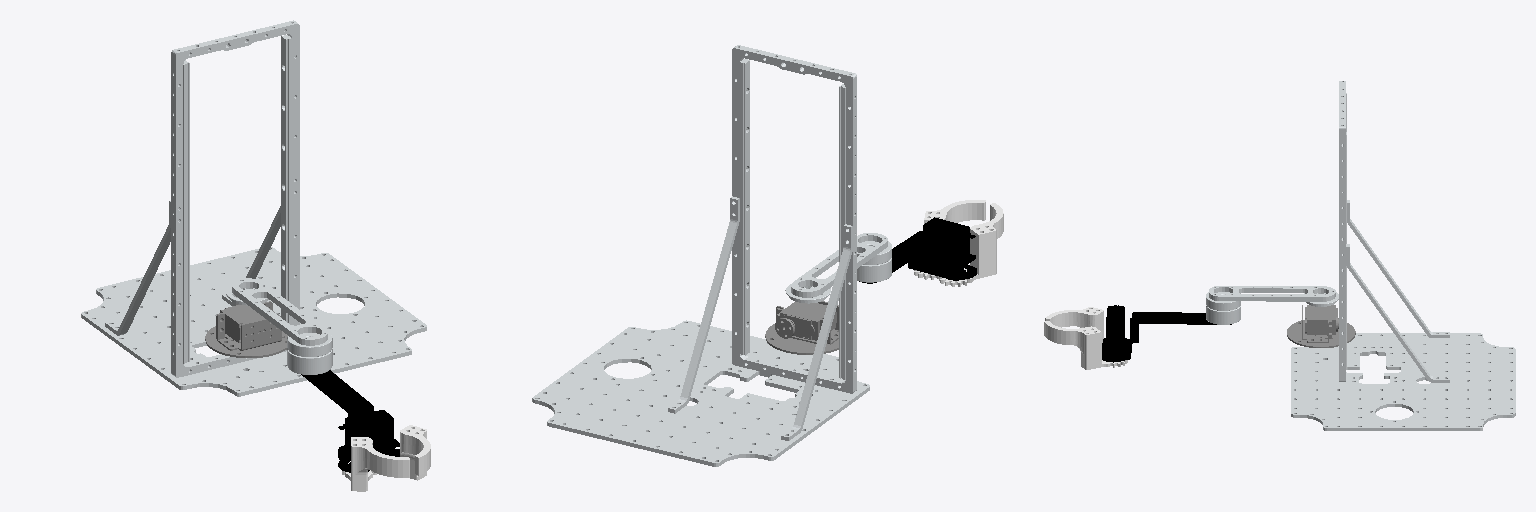
URDF robot description (arm_description):
<?xml version="1.0" encoding="utf-8" ?>
<!-- This URDF was automatically created by SolidWorks to URDF Exporter! Originally created by [author] ([email redacted])
     Commit Version: 1.6.0-4-g7f85cfe  Build Version: 1.6.7995.38578
     For more information, please see http://wiki.ros.org/sw_urdf_exporter -->
<robot name="arm_description">
    <link name="base_link">

<inertial>
            <origin xyz="0.043869 0.037621 0.014337" rpy="0 0 0" />
            <mass value="0.82072" />
            <inertia ixx="0.0055626" ixy="-1.1033E-18" ixz="-2.67E-05" iyy="0.0068854" iyz="-6.7106E-05" izz="0.0058318" />
        </inertial>

        <visual>
            <origin xyz="0 0 0" rpy="0 0 0" />
            <geometry>
                <mesh filename="package://arm_description/meshes/base_link.STL" />
            </geometry>
            <material name="">
                <color rgba="0.89804 0.91765 0.92941 1" />
            </material>
        </visual>
        <collision>
            <origin xyz="0 0 0" rpy="0 0 0" />
            <geometry>
                <mesh filename="package://arm_description/meshes/base_link.STL" />
            </geometry>
        </collision>
    </link>
    <link name="link1">

<inertial>
            <origin xyz="-0.010631 -4.7822E-05 0.011542" rpy="0 0 0" />
            <mass value="0.065974" />
            <inertia ixx="2.208E-05" ixy="6.203E-10" ixz="2.4065E-08" iyy="1.6966E-05" iyz="4.3205E-09" izz="3.4871E-05" />
        </inertial>

        <visual>
            <origin xyz="0 0 0" rpy="0 0 0" />
            <geometry>
                <mesh filename="package://arm_description/meshes/link1.STL" />
            </geometry>
            <material name="">
                <color rgba="0.62745 0.62745 0.62745 1" />
            </material>
        </visual>
        <collision>
            <origin xyz="0 0 0" rpy="0 0 0" />
            <geometry>
                <mesh filename="package://arm_description/meshes/link1.STL" />
            </geometry>
        </collision>
    </link>
    <joint name="joint1" type="prismatic">
        <origin xyz="0 -0.095 0.033979" rpy="0 0 -1.5708" />
        <parent link="base_link" />
        <child link="link1" />
        <axis xyz="0 0 -1" />
        <limit lower="-0.24" upper="0" effort="50" velocity="1" />
    </joint>
    <link name="link2">

<inertial>
            <origin xyz="0.094952 -0.0012318 -0.0091985" rpy="0 0 0" />
            <mass value="0.1327" />
            <inertia ixx="2.0932E-05" ixy="7.9032E-07" ixz="1.2781E-21" iyy="8.1845E-05" iyz="2.6271E-21" izz="9.0239E-05" />
        </inertial>

        <visual>
            <origin xyz="0 0 0" rpy="0 0 0" />
            <geometry>
                <mesh filename="package://arm_description/meshes/link2.STL" />
            </geometry>
            <material name="">
                <color rgba="0.89804 0.91765 0.92941 1" />
            </material>
        </visual>
        <collision>
            <origin xyz="0 0 0" rpy="0 0 0" />
            <geometry>
                <mesh filename="package://arm_description/meshes/link2.STL" />
            </geometry>
        </collision>
    </link>
    <joint name="joint2" type="revolute">
        <origin xyz="0 0 0.046" rpy="0 0 0" />
        <parent link="link1" />
        <child link="link2" />
        <axis xyz="0 0 -1" />
        <limit lower="-1.7" upper="1.7" effort="50" velocity="1" />
    </joint>
    <link name="link3">

<inertial>
            <origin xyz="0.10063 -0.0070847 -0.016939" rpy="0 0 0" />
            <mass value="0.073006" />
            <inertia ixx="1.3194E-05" ixy="5.9322E-07" ixz="4.1051E-07" iyy="2.795E-05" iyz="5.4623E-08" izz="3.0192E-05" />
        </inertial>

        <visual>
            <origin xyz="0 0 0" rpy="0 0 0" />
            <geometry>
                <mesh filename="package://arm_description/meshes/link3.STL" />
            </geometry>
            <material name="">
                <color rgba="0 0 0 1" />
            </material>
        </visual>
        <collision>
            <origin xyz="0 0 0" rpy="0 0 0" />
            <geometry>
                <mesh filename="package://arm_description/meshes/link3.STL" />
            </geometry>
        </collision>
    </link>
    <joint name="joint3" type="revolute">
        <origin xyz="0.11299 -0.0014658 -0.028" rpy="0 0 0" />
        <parent link="link2" />
        <child link="link3" />
        <axis xyz="0 0 -1" />
        <limit lower="-3" upper="3" effort="50" velocity="1" />
    </joint>
    <link name="gripper">

<inertial>
            <origin xyz="-0.028198 0.0014936 -0.032737" rpy="0 0 0" />
            <mass value="0.096941" />
            <inertia ixx="1.1175E-05" ixy="8.0569E-07" ixz="-2.9593E-06" iyy="2.7488E-05" iyz="1.5526E-07" izz="2.9403E-05" />
        </inertial>

        <visual>
            <origin xyz="0 0 0" rpy="0 0 0" />
            <geometry>
                <mesh filename="package://arm_description/meshes/gripper.STL" />
            </geometry>
            <material name="">
                <color rgba="1 1 1 1" />
            </material>
        </visual>
        <collision>
            <origin xyz="0 0 0" rpy="0 0 0" />
            <geometry>
                <mesh filename="package://arm_description/meshes/gripper.STL" />
            </geometry>
        </collision>
    </link>
    <joint name="joint4" type="fixed">
        <origin xyz="0.17435 -0.0081847 -0.0075" rpy="0 0 0.0054343" />
        <parent link="link3" />
        <child link="gripper" />
        <axis xyz="0 0 0" />
        <limit lower="0" upper="0" effort="50" velocity="1" />
    </joint>

<transmission name="trans_joint1">
        <type>transmission_interface/SimpleTransmission</type>
        <joint name="joint1">
            <hardwareInterface>hardware_interface/PositionJointInterface</hardwareInterface>
        </joint>
        <actuator name="joint1_motor">
            <hardwareInterface>hardware_interface/PositionJointInterface</hardwareInterface>
            <mechanicalReduction>1</mechanicalReduction>
        </actuator>
    </transmission>
    <transmission name="trans_joint2">
        <type>transmission_interface/SimpleTransmission</type>
        <joint name="joint2">
            <hardwareInterface>hardware_interface/PositionJointInterface</hardwareInterface>
        </joint>
        <actuator name="joint2_motor">
            <hardwareInterface>hardware_interface/PositionJointInterface</hardwareInterface>
            <mechanicalReduction>1</mechanicalReduction>
        </actuator>
    </transmission>
    <transmission name="trans_joint3">
        <type>transmission_interface/SimpleTransmission</type>
        <joint name="joint3">
            <hardwareInterface>hardware_interface/PositionJointInterface</hardwareInterface>
        </joint>
        <actuator name="joint3_motor">
            <hardwareInterface>hardware_interface/PositionJointInterface</hardwareInterface>
            <mechanicalReduction>1</mechanicalReduction>
        </actuator>
    </transmission>
    <gazebo>
        <plugin name="gazebo_ros_control" filename="libgazebo_ros_control.so">
            <robotNamespace>/</robotNamespace>
        </plugin>
    </gazebo>
</robot>

--- Facts derived from the render (not from the file) ---
The picture shows the robot from 3 angles, left to right: view 1: azimuth 30°, elevation 25°; view 2: azimuth 150°, elevation 25°; view 3: azimuth 270°, elevation 25°; orthographic projection.
Model arm_description with 5 links and 4 joints (2 revolute, 1 prismatic, 1 fixed), rooted at base_link, posed all joints at 0.
Visible links, largest first — view 1: base_link, link2, link3, gripper, link1; view 2: base_link, link3, link2, gripper, link1; view 3: base_link, link2, gripper, link3, link1.
Boxes of the visible links, x1,y1,x2,y2 form: base_link: (81, 20, 426, 396); link2: (226, 278, 332, 374); link3: (301, 370, 399, 472); gripper: (342, 425, 430, 491); link1: (205, 301, 287, 357); base_link: (532, 45, 869, 466); link3: (859, 217, 976, 283); link2: (785, 233, 891, 303); gripper: (914, 200, 1003, 286); link1: (765, 301, 838, 354); base_link: (1291, 81, 1515, 430); link2: (1206, 286, 1338, 324); gripper: (1044, 307, 1127, 369); link3: (1102, 305, 1231, 362); link1: (1287, 305, 1355, 347).
Bounding box of the posed robot: 0.26 × 0.5453 × 0.33 m (x, y, z).
5 mesh visuals loaded from 5 distinct referenced files (5 binary STL).